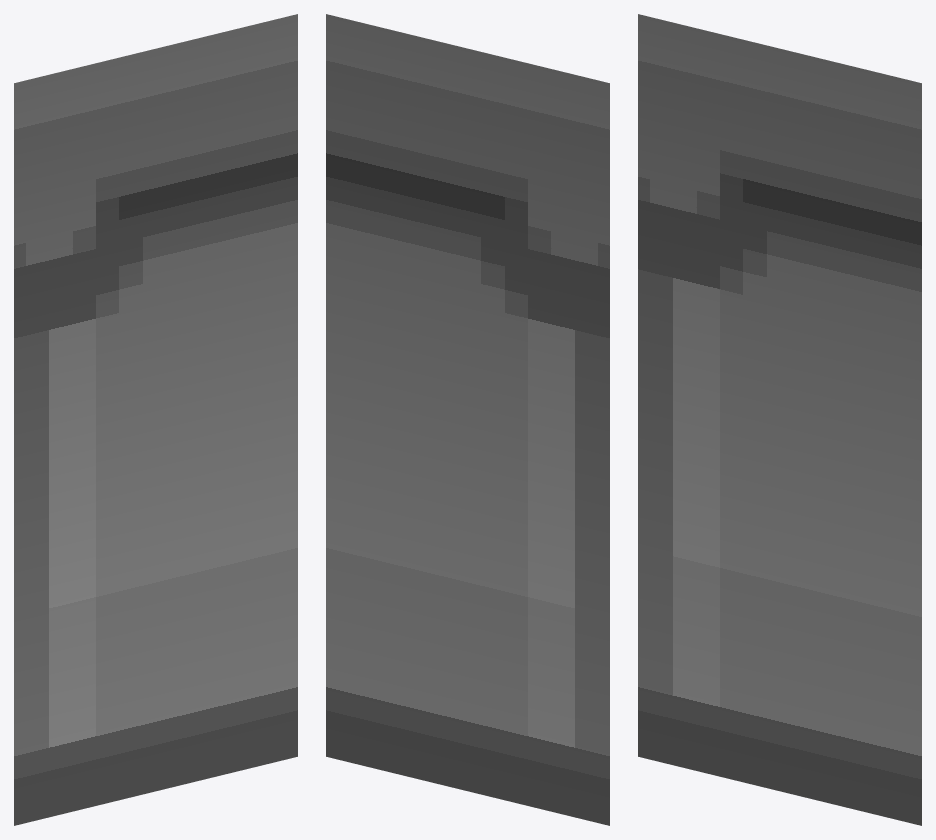
3 views of the same model, side by side, from view 1: azimuth 30°, elevation 25°; view 2: azimuth 150°, elevation 25°; view 3: azimuth 330°, elevation 25° (orthographic).
Bounding box in the file's own units: 1 × 2.5 × 0.
Materials: 1 (1 with a texture image).
